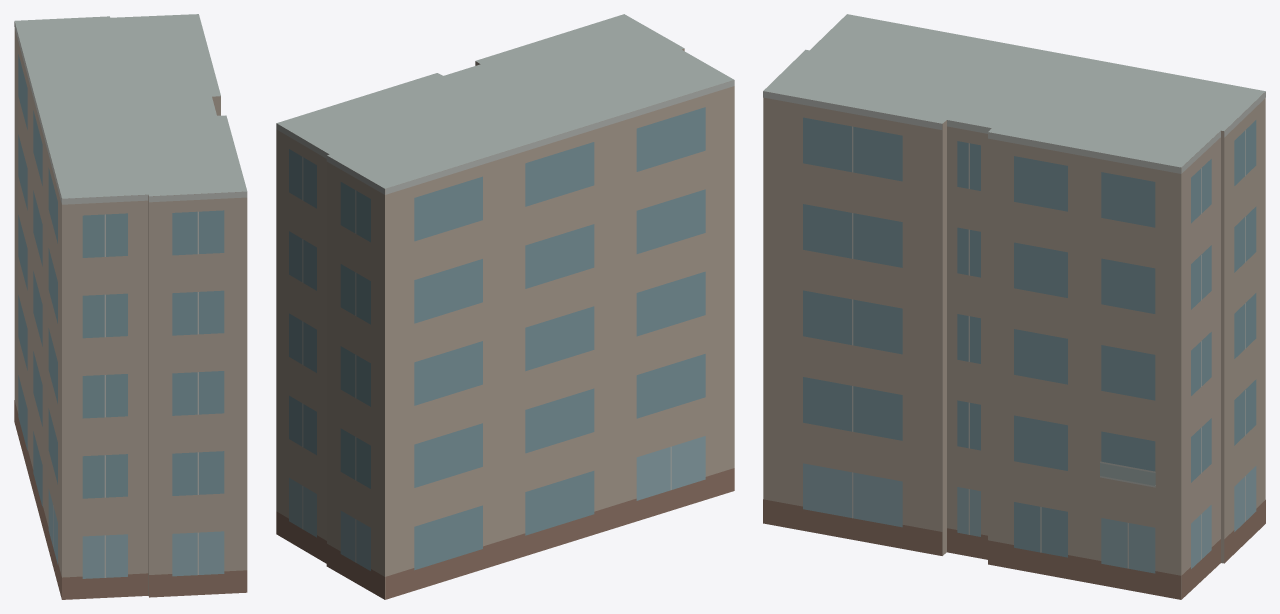
The model's file is survey-upis-32932707.glb.
The picture shows the model from 3 angles, left to right: view 1: azimuth 30°, elevation 25°; view 2: azimuth 150°, elevation 25°; view 3: azimuth 270°, elevation 25°; orthographic projection. The views are drawn at different scales.
Visible parts, largest first — view 1: survey-upis-32932707.tmp; view 2: survey-upis-32932707.tmp; view 3: survey-upis-32932707.tmp.
Part boxes in pixels (bbox=[...]): survey-upis-32932707.tmp: bbox=[14, 14, 247, 599]; survey-upis-32932707.tmp: bbox=[276, 14, 734, 599]; survey-upis-32932707.tmp: bbox=[763, 14, 1265, 599].
Bounding box in the file's own units: 12.42 × 16.3 × 17.19.
